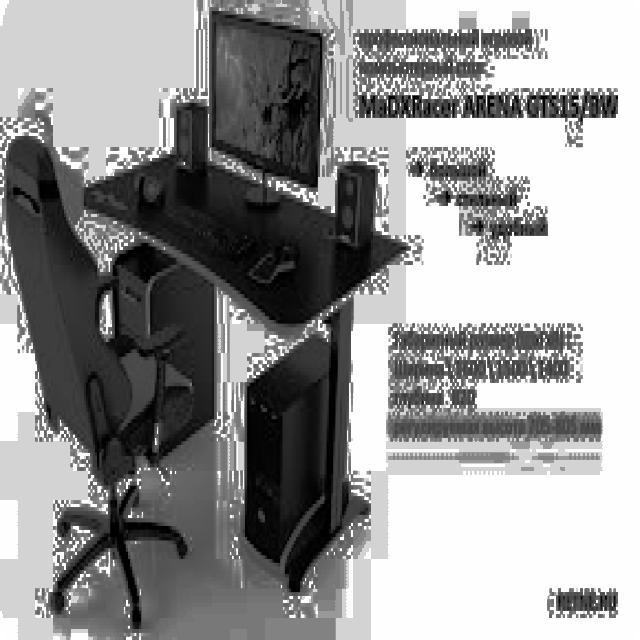book: (4, 132, 192, 629)
table: (82, 144, 408, 592)
